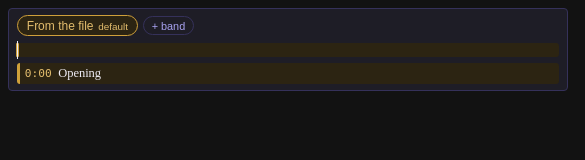
Test: MaterialChapters — writing into a band of one's own › opens the band it just made, rather than falling back to the default
Expected: the text "Opening" is shown, [58,66,101,80]
Click the button "+ band" at (168, 26), box [143,16,194,35]
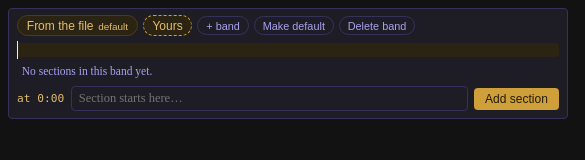
Now the field named "Title of the new section" is shown, box [70,86,468,111]
Now the list item "No sections in this band yet." is shown, box [22,65,152,77]
